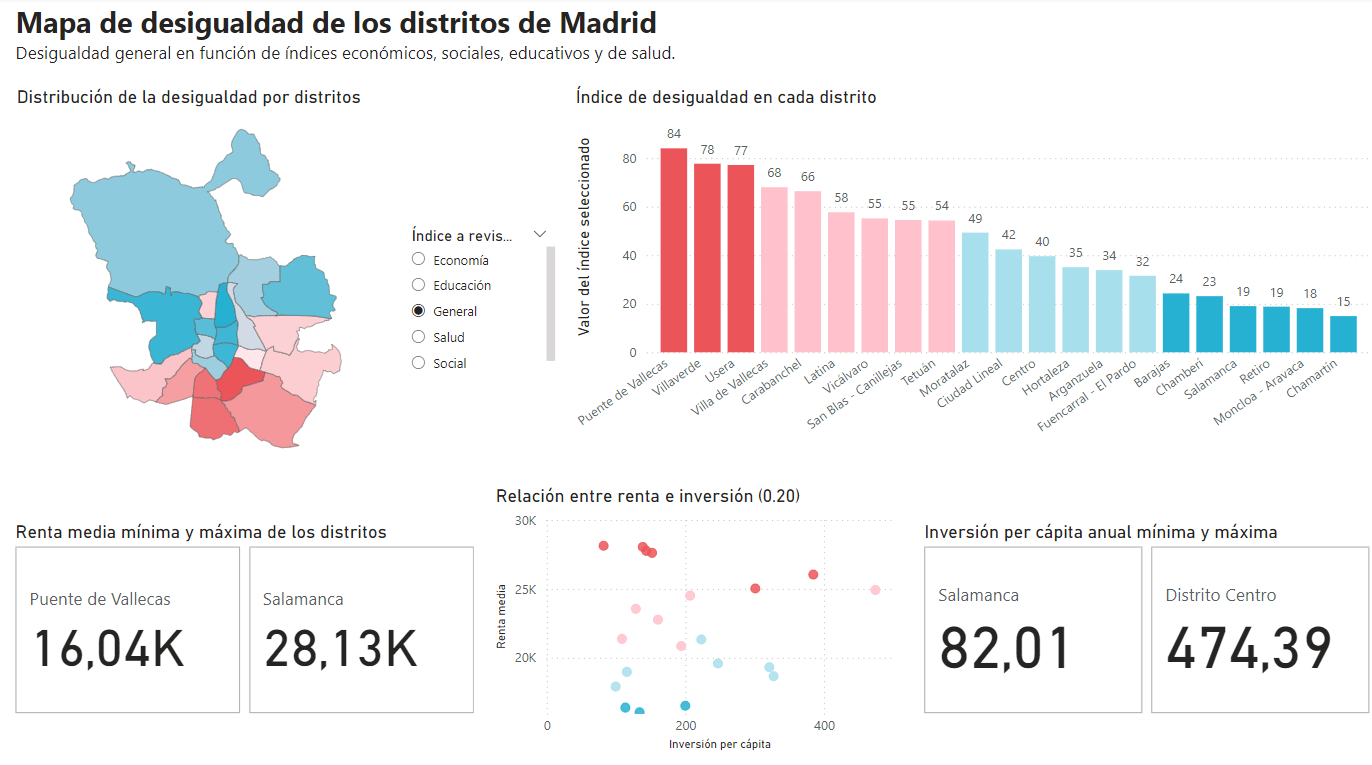

What the dashboard file says about the page in this screenshot:
{"tool":"powerbi","page":{"name":"Visión general","canvas":[1280,720],"ordinal":0},"visuals":[{"type":"shapeMap","title":"Distribución de la desigualdad por distritos","fields":{"Category":["indices.distrito"],"Value":["Tabla_Indices.SeleccionIndice"]},"box":[11.3,82.3,361.8,358.4],"z":0},{"type":"slicer","fields":{"Values":["Tabla_Indices.Índice"]},"box":[370.8,208.5,151,147.7],"z":1000},{"type":"columnChart","title":"Índice de desigualdad en cada distrito","fields":{"Category":["indices.distrito"],"Y":["Tabla_Indices.Índice Seleccionado"]},"box":[530.9,82.3,749.5,347.2],"z":2000},{"type":"cardVisual","title":"Renta media mínima y máxima de los distritos","fields":{"Data":["Min(economia.renta_media)","Max(economia.renta_media)"]},"box":[10.1,486.9,402.4,184.8],"z":3000},{"type":"cardVisual","title":"Inversión per cápita anual mínima y máxima ","fields":{"Data":["Tabla_Indices.MinInversionPerCapita","Tabla_Indices.MaxInversionPerCapita"]},"box":[862.2,486.9,418.2,184.8],"z":4000},{"type":"scatterChart","title":"Relación entre renta e inversión (0.20)","fields":{"X":["Tabla_Indices.InversionPerCapita"],"Y":["economia.renta_media"]},"box":[441.8,456.5,390,252.5],"z":5000},{"type":"textbox","box":[10.1,0,1033.6,66.5],"z":6000}]}

Visuals, with their boxes in screenshot pixels (x1, y1, x2, y2), scaled from the page's 1280x720 canvas onto the 1372x765 screenshot:
"Distribución de la desigualdad por distritos" shapeMap: 12,87,400,468
slicer - Tabla_Indices.Índice: 397,222,559,378
"Índice de desigualdad en cada distrito" columnChart: 569,87,1371,456
"Renta media mínima y máxima de los distritos" cardVisual: 11,517,442,714
"Inversión per cápita anual mínima y máxima " cardVisual: 924,517,1371,714
"Relación entre renta e inversión (0.20)" scatterChart: 474,485,892,753
textbox: 11,0,1119,71
